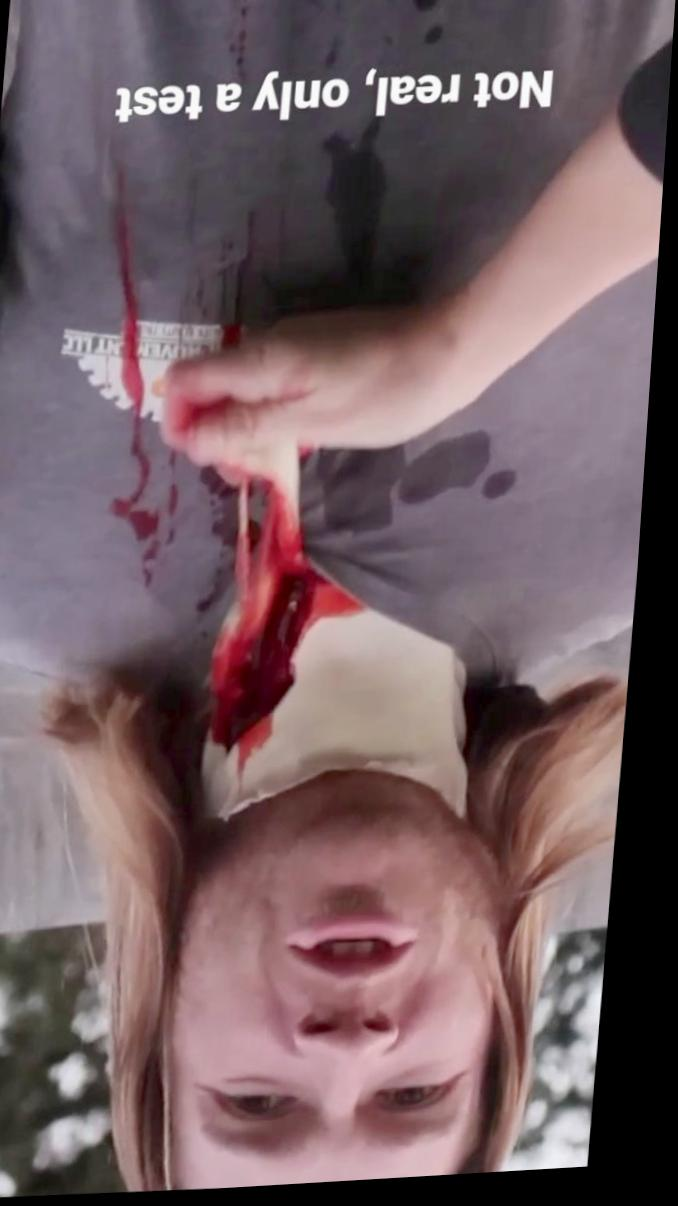Fire: (221, 449, 370, 754), (116, 171, 169, 566), (204, 468, 246, 623), (224, 211, 263, 349), (230, 0, 250, 83)
